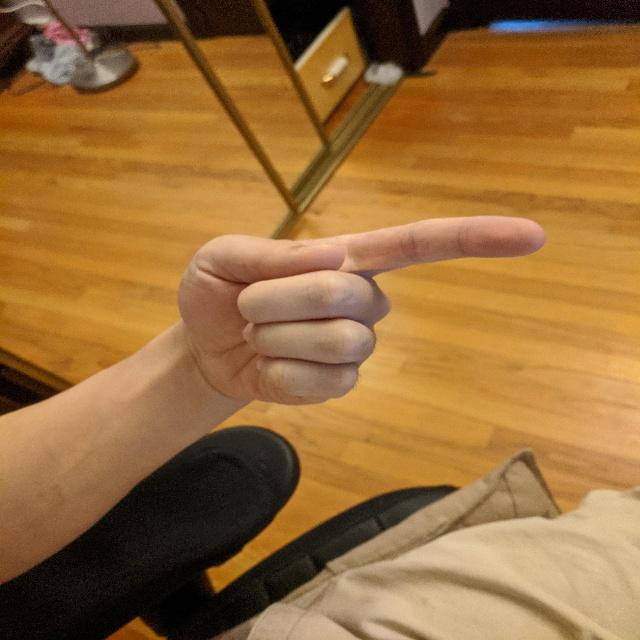G: (173, 210, 553, 403)
